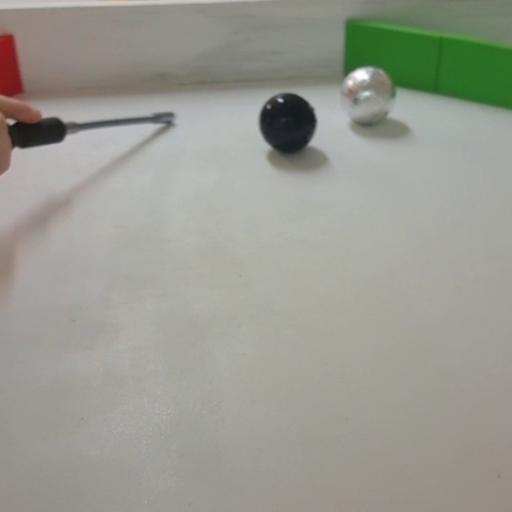alive: (340, 66, 396, 126)
dead: (257, 91, 319, 155)
